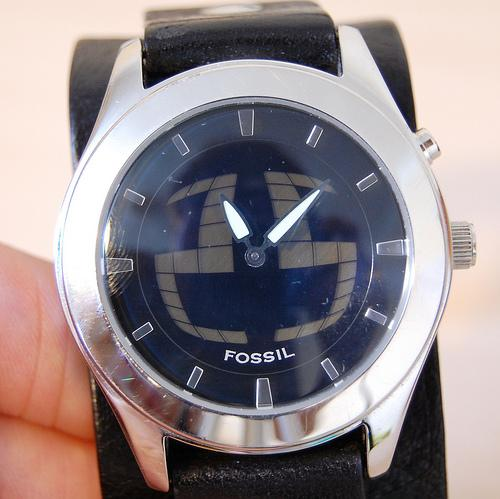watch: (70, 72, 465, 452)
